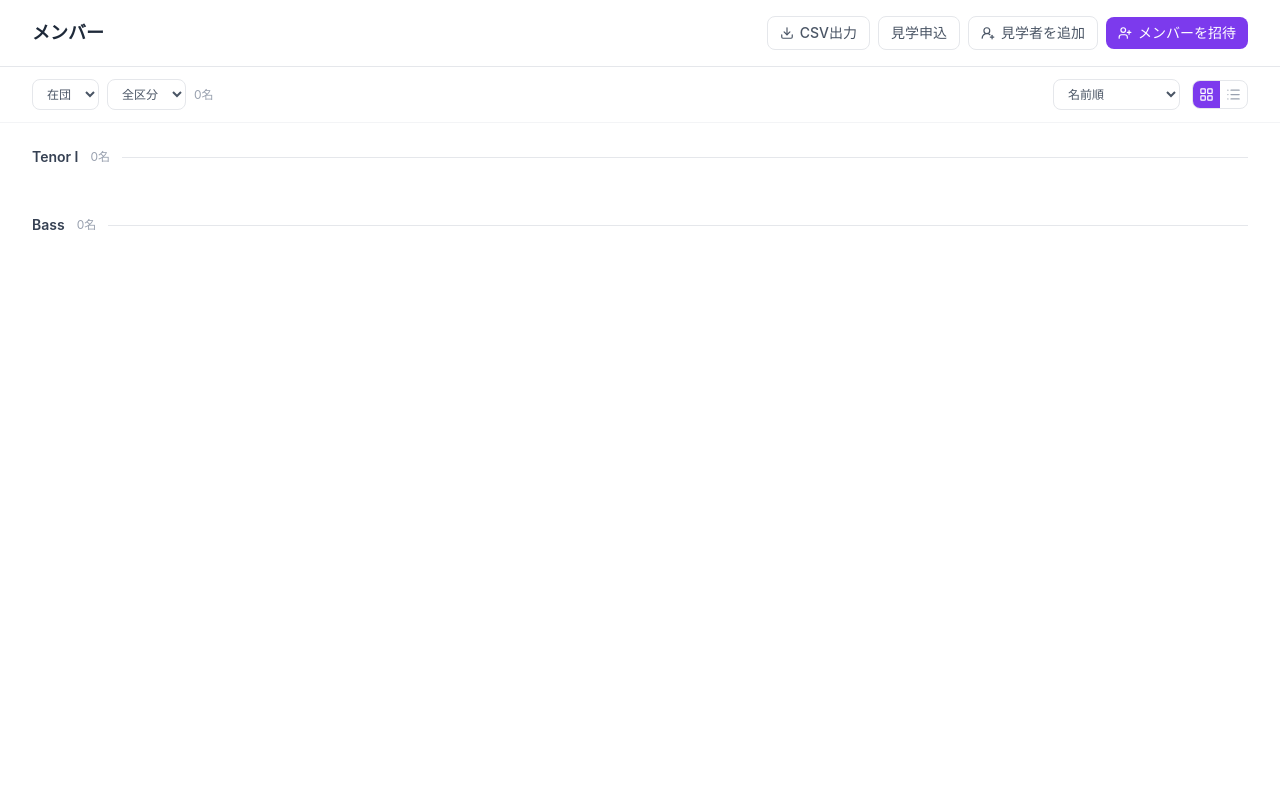
MembersPage（招待、権限） › 招待ボタンクリックでInviteModalが開く
Click the button "メンバーを招待" at (1177, 33), box [1106,17,1248,49]
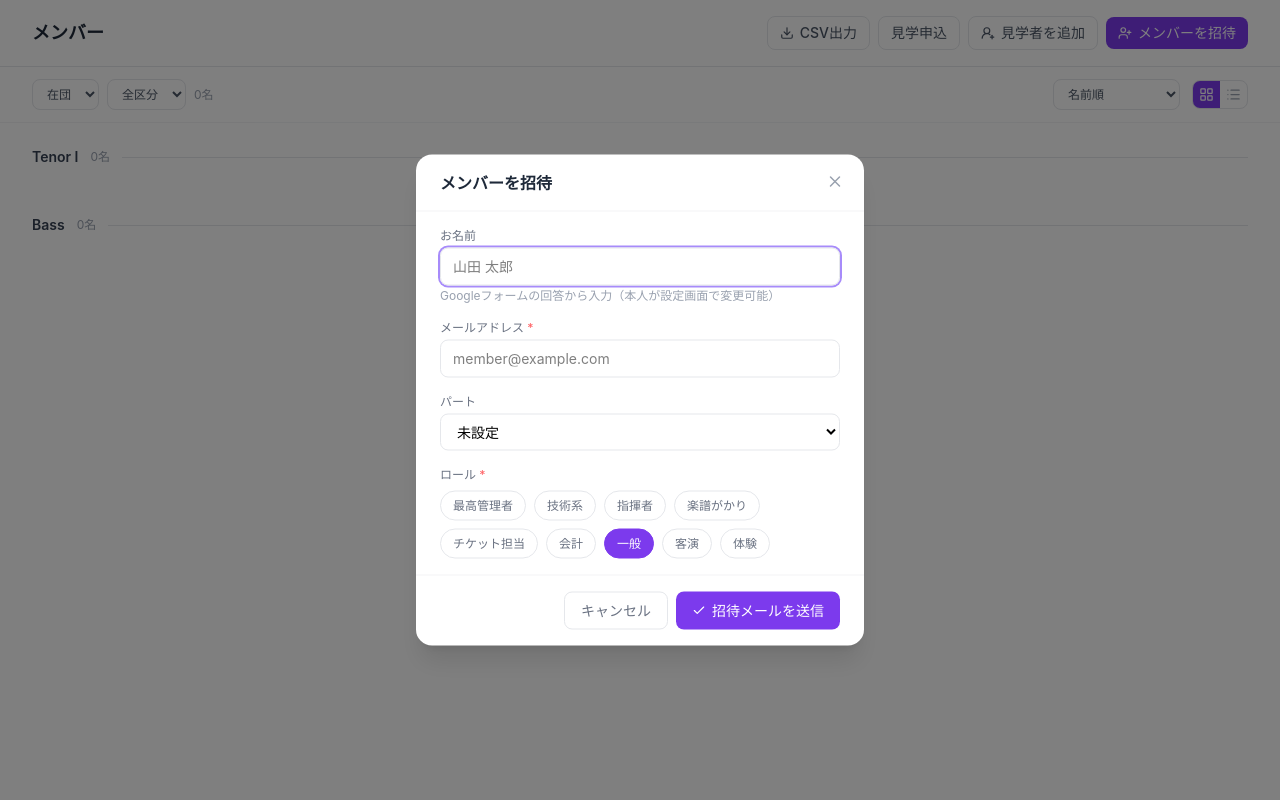
Now the heading "メンバーを招待" is shown, box [440,172,552,192]
